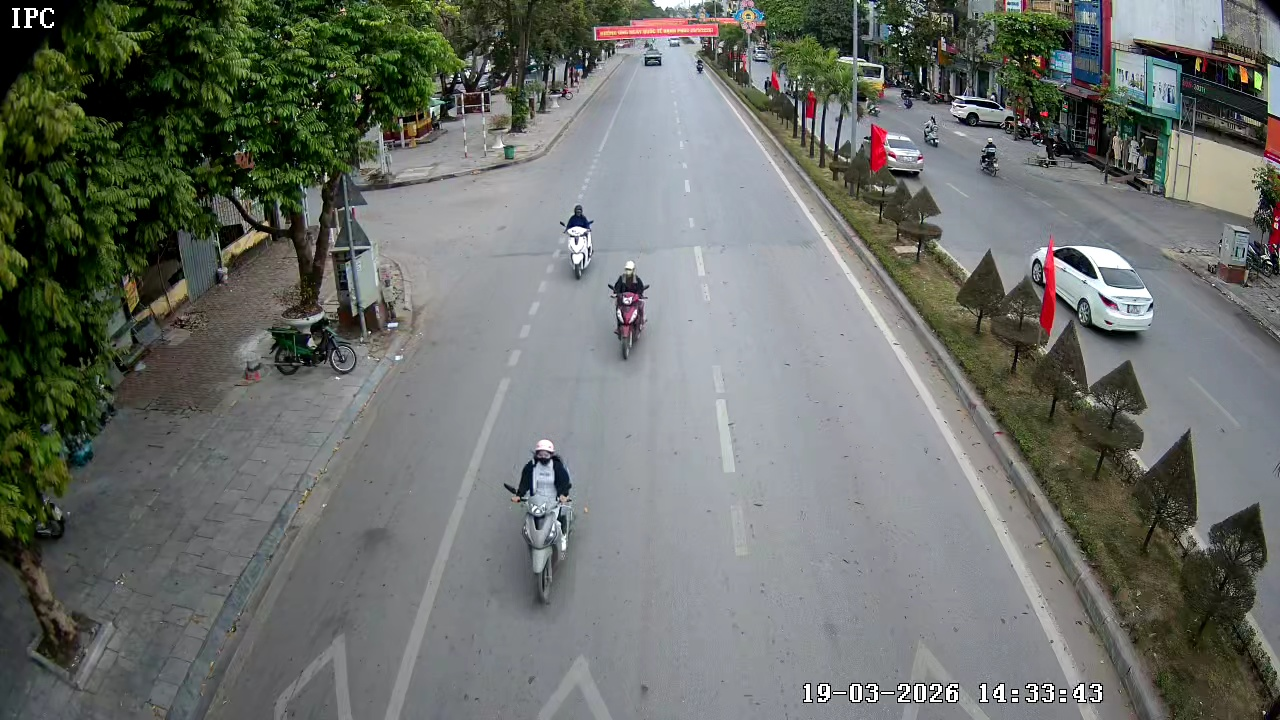car: (1030, 241, 1156, 336), (643, 48, 667, 68)
motorbike: (503, 438, 578, 605), (257, 313, 361, 378), (606, 260, 651, 361), (558, 202, 596, 279), (692, 54, 706, 73)
